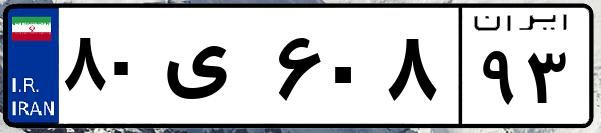0: (330, 28, 385, 110), (110, 28, 158, 98)
3: (525, 38, 570, 115)
6: (270, 28, 330, 110)
8: (385, 28, 445, 110), (57, 26, 110, 100)
9: (475, 38, 525, 113)
ی: (158, 20, 270, 120)
